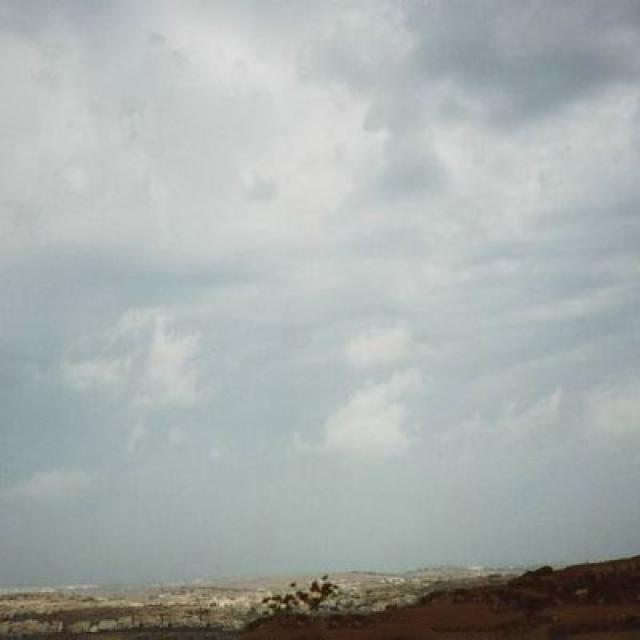St: (1, 11, 640, 507)
